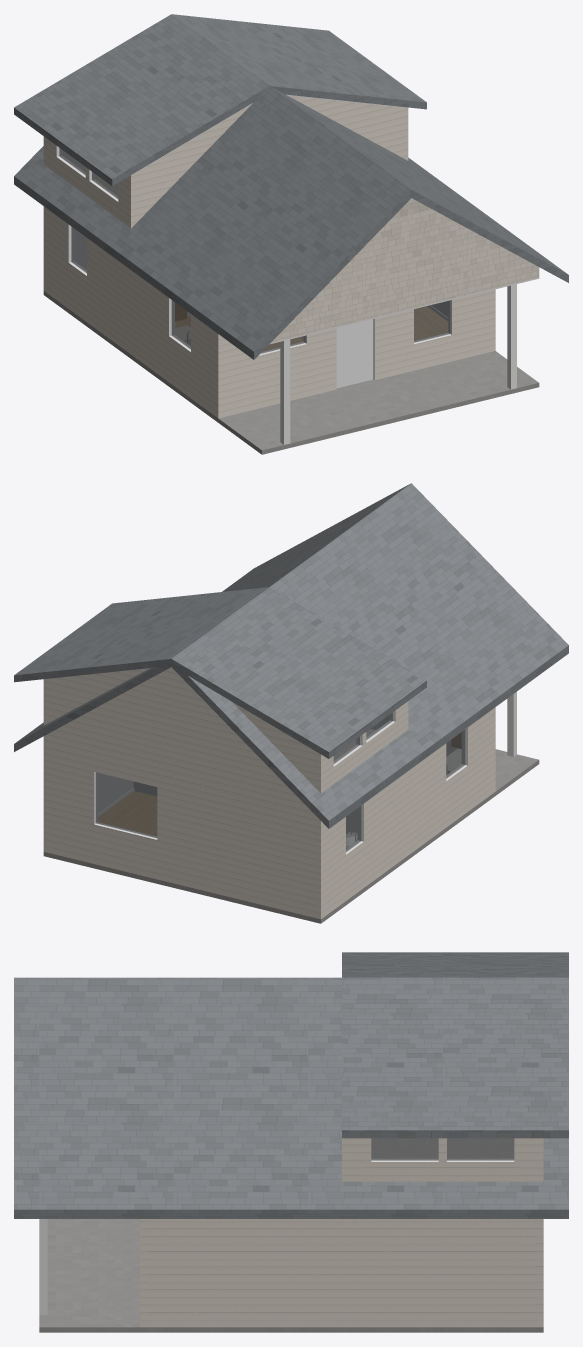
File: barn_cabin_524.glb
3 renders of one model, top to bottom at view 1: azimuth 30°, elevation 25°; view 2: azimuth 150°, elevation 25°; view 3: azimuth 270°, elevation 25°, orthographic. The views are drawn at different scales.
Parts seen in each view (by area): view 1: Roof_main, Roof_dormer_W, Gable_S_porch, Wall_S, Wall_W, Porch_slab, Roof_dormer_E, Dormer_cheek_E, Dormer_cheek_W, Dormer_face_W, Door_D-FRONT, Glazing_W-LIVING-S2 (+7 smaller); view 2: Roof_main, Wall_N, Roof_dormer_W, Gable_N, Wall_W, Roof_dormer_E, Glazing_W-BED-EGRESS, Dormer_face_W, Floor_slab, Porch_slab, Floor_main_N, Wall_E (+4 smaller); view 3: Roof_main, Wall_E, Roof_dormer_E, Porch_slab, Dormer_face_E, Roof_dormer_W, Floor_loft, Floor_slab, Glazing_W-LOFT-2_E, Glazing_W-LOFT-1_E, Wall_N, Wall_S (+1 smaller).
Part boxes in pixels (x1,y1,x2,y2): Roof_main: [14, 86, 568, 359]; Roof_dormer_W: [14, 14, 269, 185]; Gable_S_porch: [271, 198, 539, 342]; Wall_S: [215, 289, 495, 418]; Wall_W: [47, 209, 214, 415]; Porch_slab: [218, 351, 539, 454]; Roof_dormer_E: [172, 14, 426, 109]; Dormer_cheek_E: [287, 95, 408, 160]; Dormer_cheek_W: [131, 104, 251, 228]; Dormer_face_W: [43, 137, 130, 228]; Door_D-FRONT: [336, 319, 373, 388]; Glazing_W-LIVING-S2: [414, 300, 449, 342]; Roof_main: [14, 483, 568, 828]; Wall_N: [43, 746, 324, 919]; Roof_dormer_W: [171, 587, 426, 758]; Gable_N: [43, 667, 324, 811]; Wall_W: [324, 710, 492, 916]; Roof_dormer_E: [14, 587, 268, 682]; Glazing_W-BED-EGRESS: [95, 772, 157, 837]; Dormer_face_W: [315, 701, 408, 792]; Floor_slab: [43, 792, 495, 923]; Porch_slab: [495, 749, 539, 795]; Floor_main_N: [98, 808, 156, 836]; Wall_E: [98, 773, 133, 813]; Roof_main: [14, 977, 568, 1218]; Wall_E: [148, 1219, 535, 1327]; Roof_dormer_E: [342, 977, 568, 1138]; Porch_slab: [39, 1219, 139, 1332]; Dormer_face_E: [342, 1138, 543, 1181]; Roof_dormer_W: [342, 952, 568, 977]; Floor_loft: [371, 1138, 513, 1158]; Floor_slab: [140, 1327, 543, 1332]; Glazing_W-LOFT-2_E: [371, 1138, 438, 1160]; Glazing_W-LOFT-1_E: [447, 1138, 514, 1160]; Wall_N: [536, 1219, 543, 1327]; Wall_S: [140, 1219, 147, 1327].
Size of the model in its own units: 7.62 by 5.53 by 10.06.
Materials: 17 (9 with a texture image).
